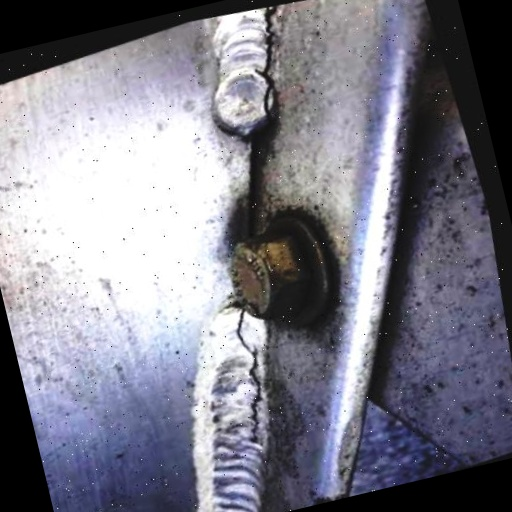crack: (189, 294, 310, 472), (221, 0, 335, 146)
